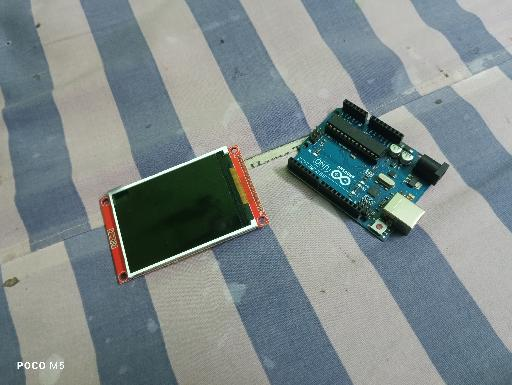Arduino: (285, 98, 450, 243)
Display: (98, 142, 270, 287)
